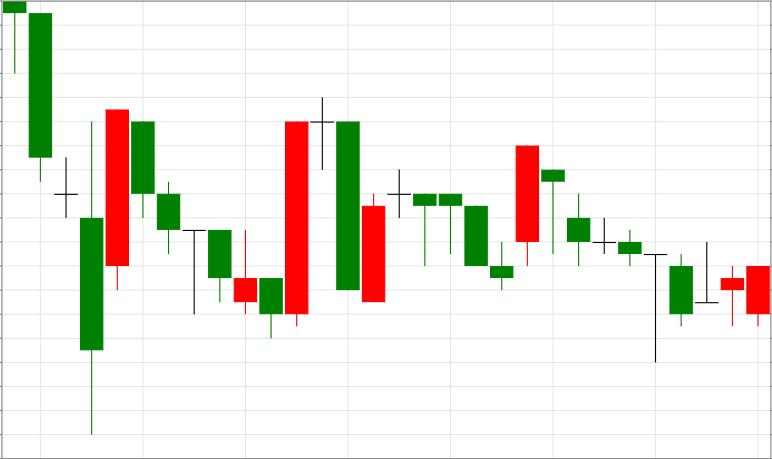morning_star_rise: (337, 121, 540, 303)
